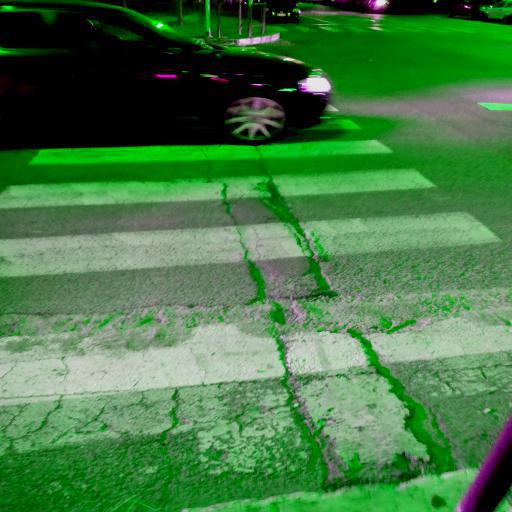crosswalk: (0, 134, 475, 215)
